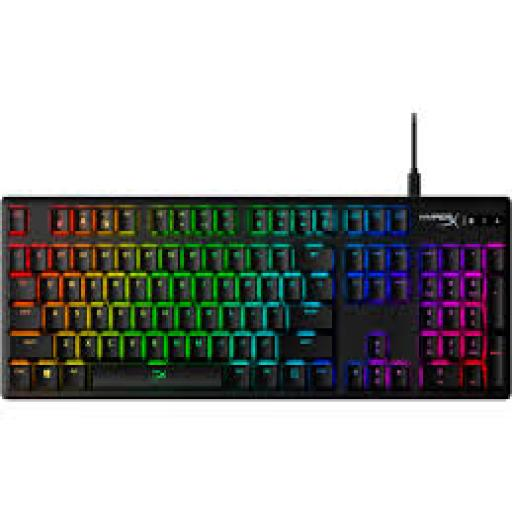keyboard: (2, 197, 508, 396)
